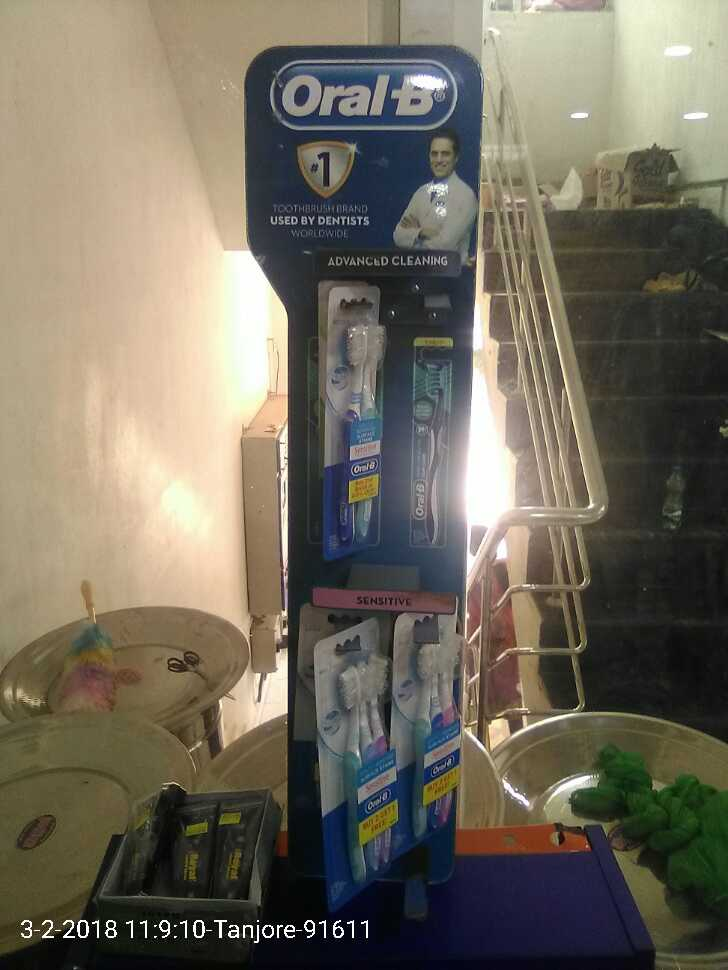oralb: (315, 616, 395, 894), (312, 278, 380, 547), (394, 609, 463, 848)
